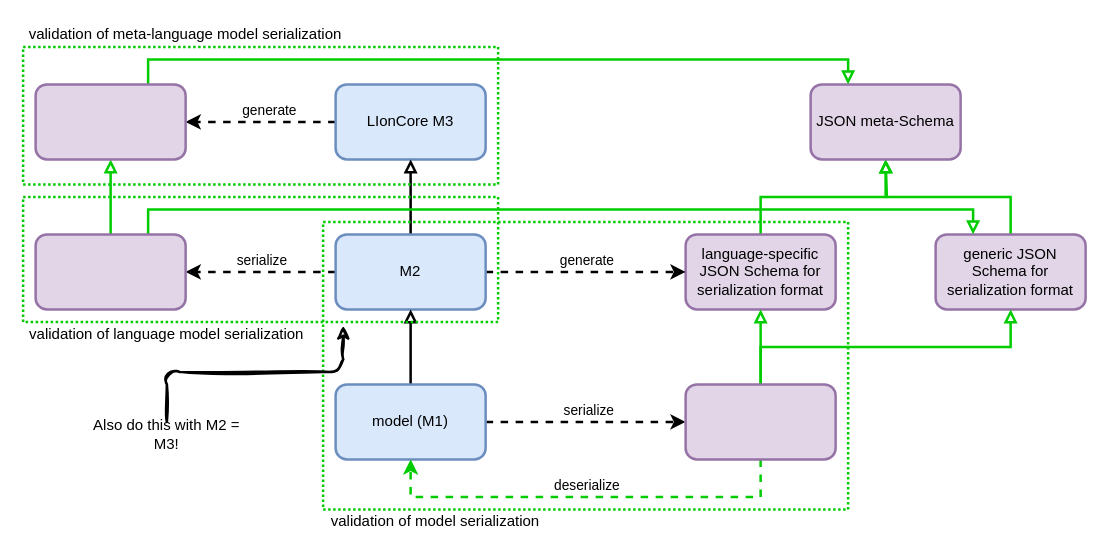
This 1108x555 diagram has some shape labels left out. The shapes that lost their labels are listed below. From the top down, each one's box as (x1, y1, x2, y2) in pixels, then its label:
(34, 82, 186, 160): LIonCore M3-specific JSON Schema for serialization format
(34, 232, 186, 310): JSON serialization of language
(684, 382, 836, 460): JSON serialization
